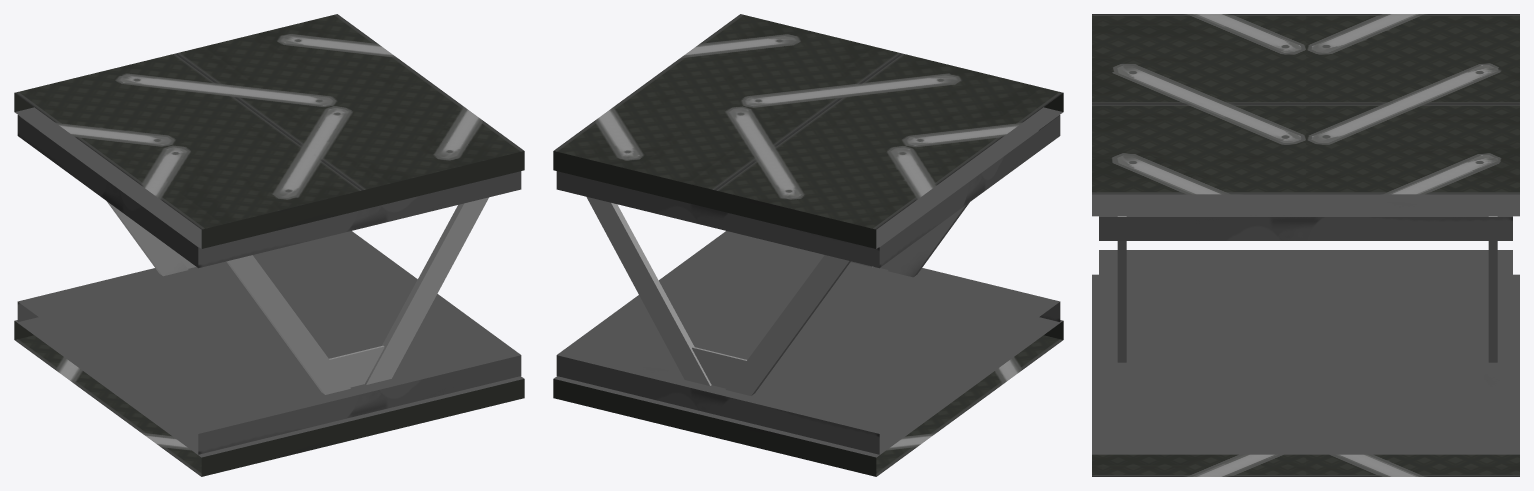
File: ConveyorBeltMiddle.fbx
The picture shows the model from 3 angles, left to right: view 1: azimuth 30°, elevation 25°; view 2: azimuth 150°, elevation 25°; view 3: azimuth 270°, elevation 25°; orthographic projection. The views are drawn at different scales.
Visible parts, largest first — view 1: polySurface392; view 2: polySurface392; view 3: polySurface392.
Boxes of the visible parts, left/top/right/bottom form: polySurface392: left=14, top=14, right=524, bottom=476; polySurface392: left=553, top=14, right=1063, bottom=476; polySurface392: left=1092, top=14, right=1519, bottom=476.
Bounding box in the file's own units: 48 × 35.12 × 48.15.
